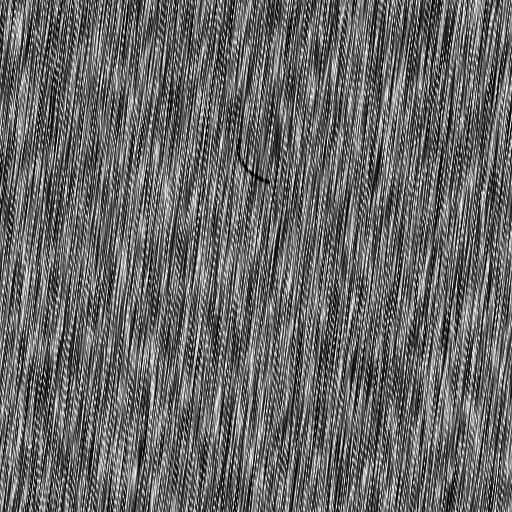DefectTypeC: (235, 137, 272, 186)
